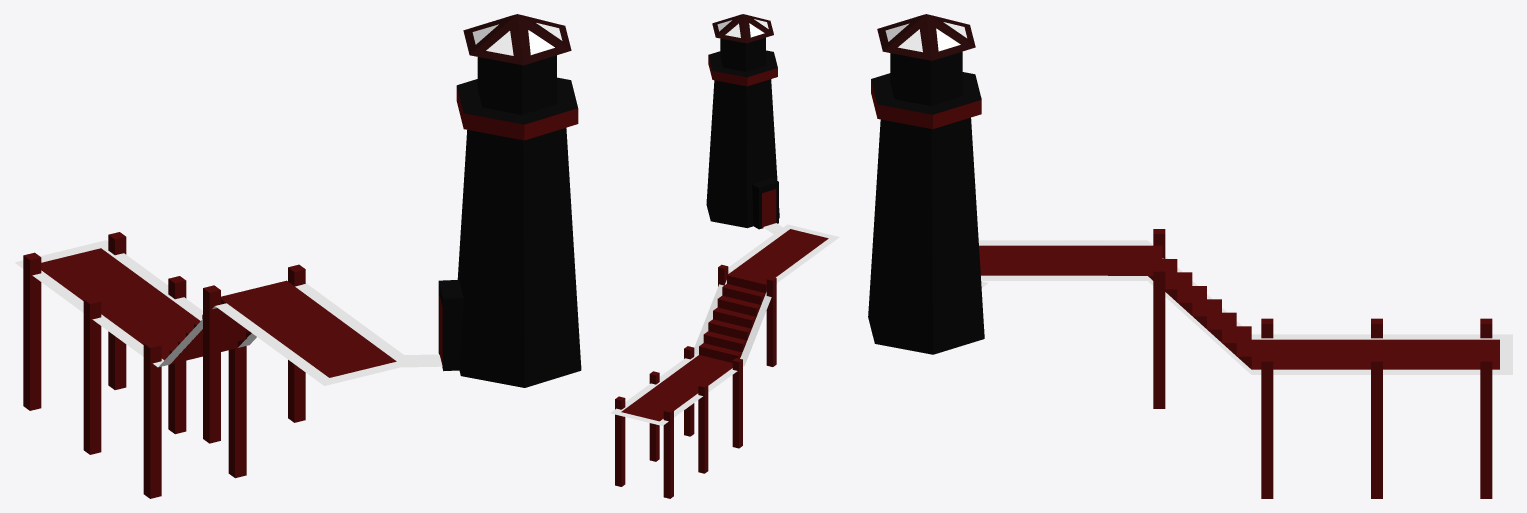
The model's file is FBX_LighthouseOne_L.fbx.
The picture shows the model from 3 angles, left to right: view 1: azimuth 30°, elevation 25°; view 2: azimuth 150°, elevation 25°; view 3: azimuth 270°, elevation 25°; orthographic projection. The views are drawn at different scales.
Visible parts, largest first — view 1: LighthouseOne_L; view 2: LighthouseOne_L; view 3: LighthouseOne_L.
Part boxes in pixels (bbox=[...]): LighthouseOne_L: bbox=[15, 14, 581, 498]; LighthouseOne_L: bbox=[610, 14, 839, 498]; LighthouseOne_L: bbox=[868, 14, 1512, 498].
Bounding box in the file's own units: 321 × 724 × 808.
